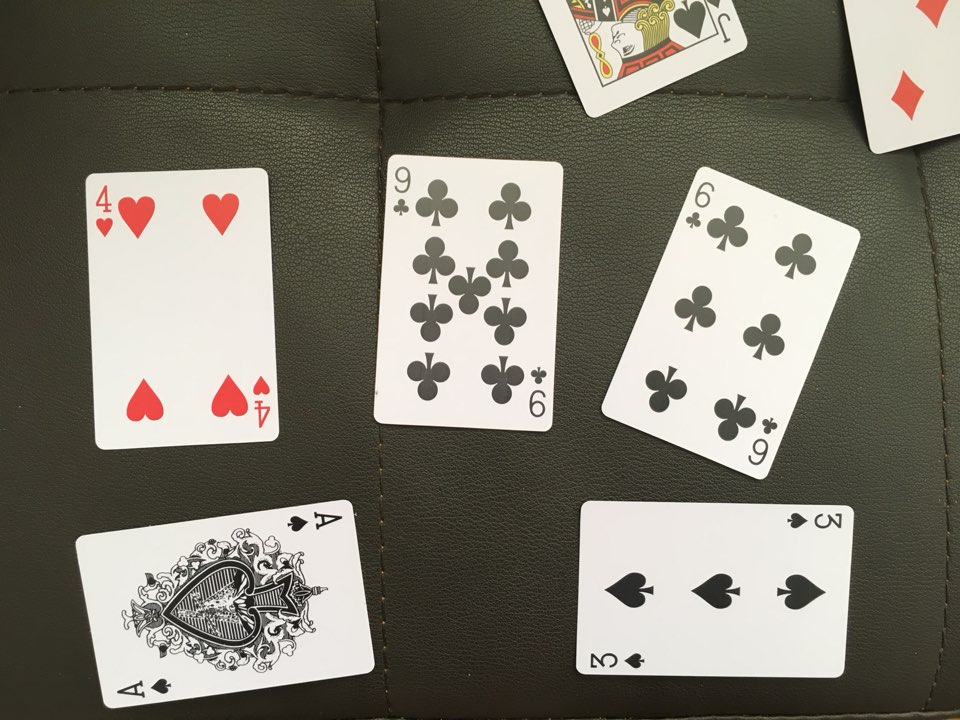ace: (58, 489, 382, 707)
jack: (514, 2, 763, 130)
nine: (360, 145, 578, 437)
